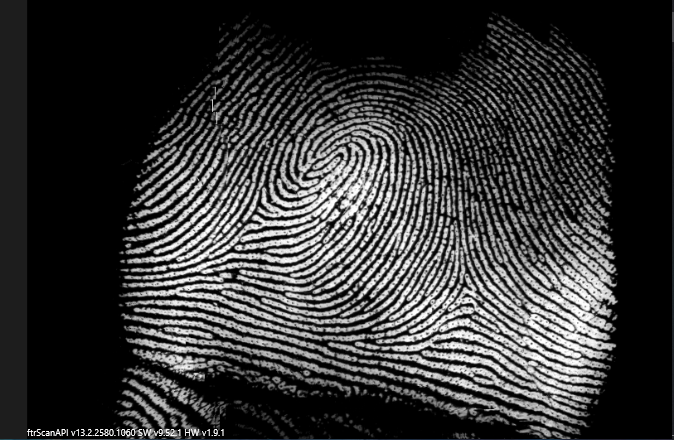deltas: (229, 180, 284, 234), (437, 264, 492, 317)
nucleo: (293, 139, 358, 191)
